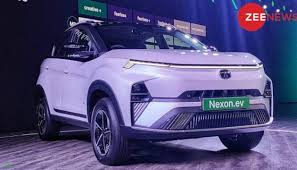Tata Nexon: (30, 20, 277, 168)
